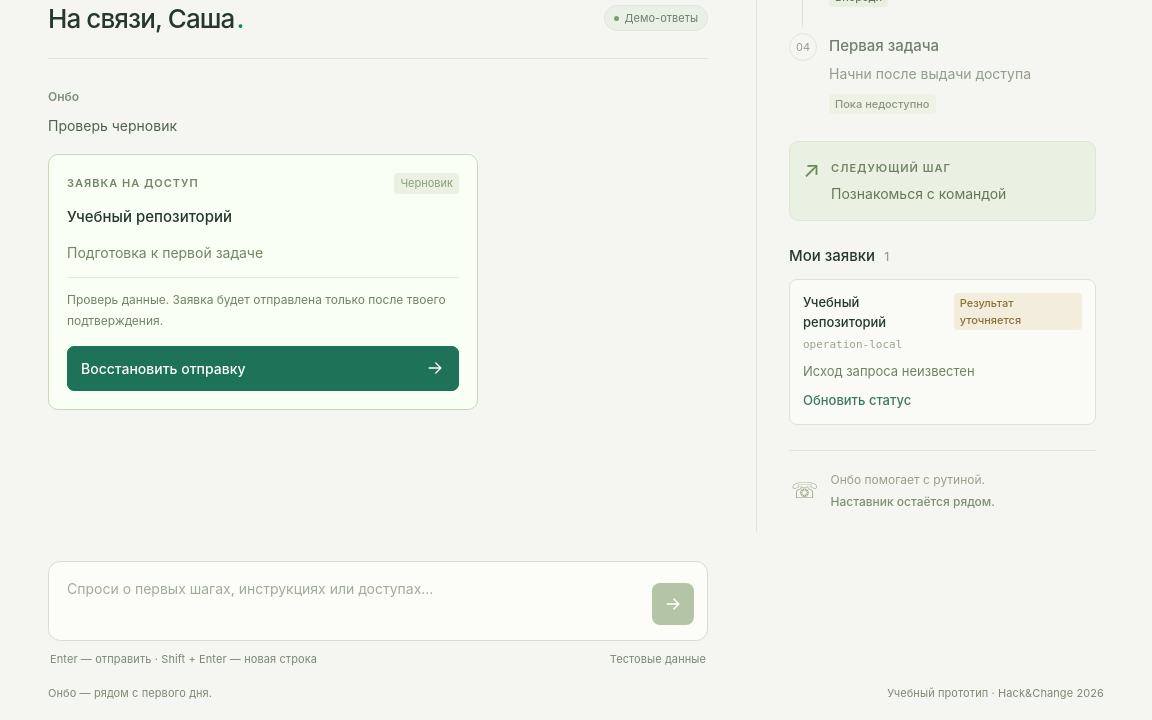
Onbo workspace › replaces a local operation with the recovered external request on refresh
(page scrolled)
Check: the heading "На связи, Саша." is shown, box [48,2,243,35]
Check: the text "operation-local" is shown, box [803,338,902,352]
Click the button "Обновить статус" at coordinates (857, 401), box [803,391,911,411]
(page scrolled)
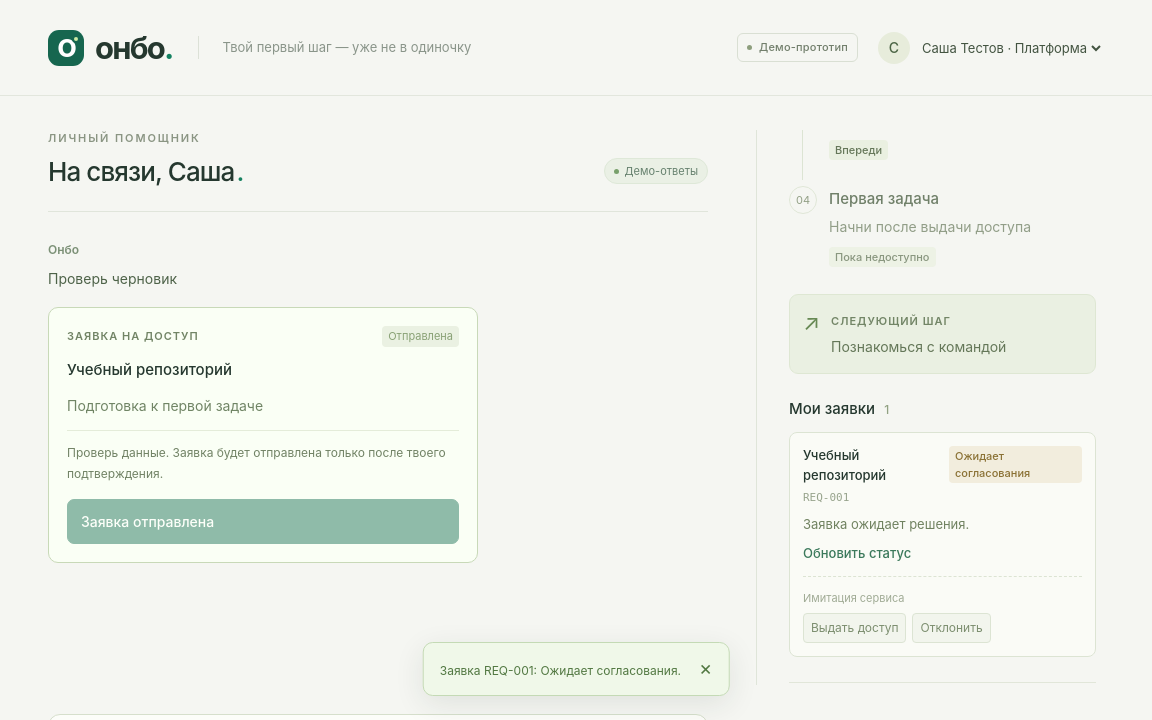
Check: the text "REQ-001" is shown, box [803,492,849,504]
Check: the text "operation-local" is gone
Check: the text "Результат уточняется" is gone
